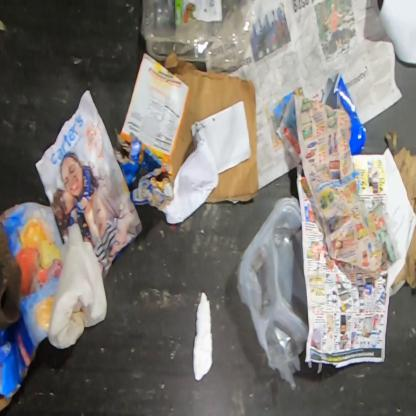cardboard: (156, 50, 259, 204), (0, 201, 66, 410), (121, 52, 188, 161), (113, 132, 174, 211), (386, 129, 415, 293)
rigid_plastic: (236, 196, 309, 390), (140, 0, 257, 71), (320, 72, 366, 155)
